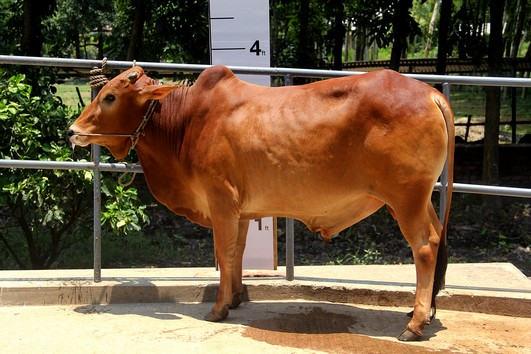cow: (67, 52, 460, 336)
